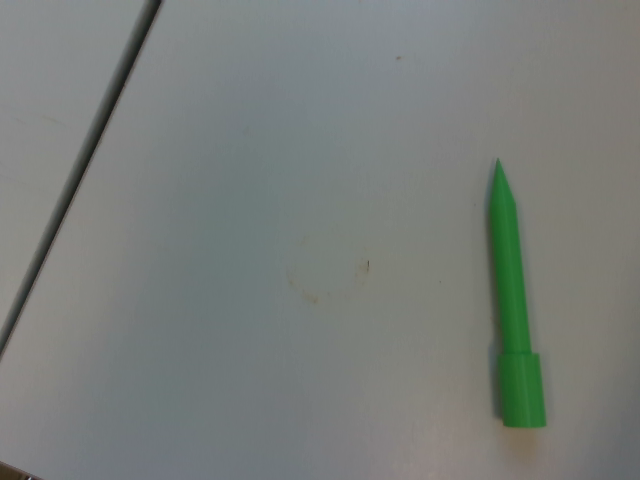Probe: (481, 152, 552, 434)
